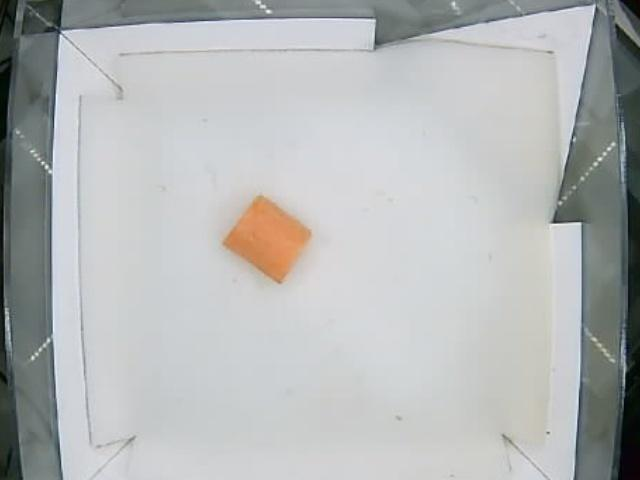Carrot: (222, 198, 309, 279)
